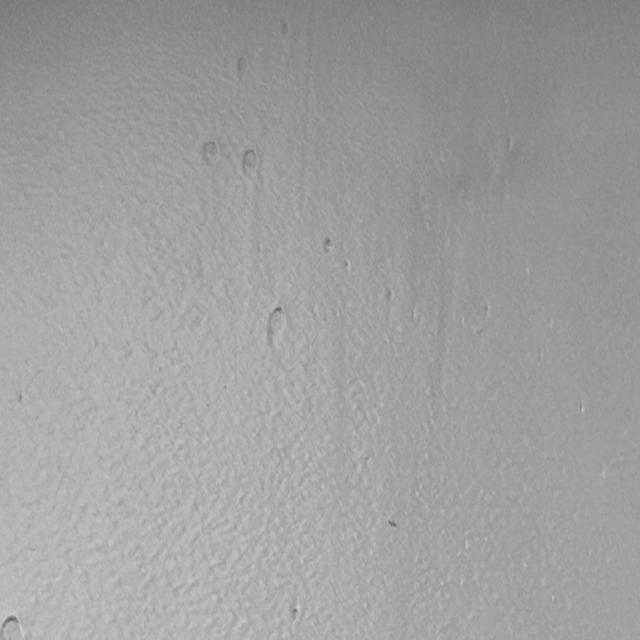pin holes: (264, 306, 288, 349), (2, 611, 28, 640), (199, 140, 223, 169), (240, 149, 262, 177), (232, 55, 252, 80), (476, 300, 496, 325), (277, 19, 295, 42), (290, 605, 305, 624), (323, 237, 336, 256), (388, 516, 404, 530), (383, 289, 396, 306), (341, 260, 354, 276), (15, 392, 28, 408)
